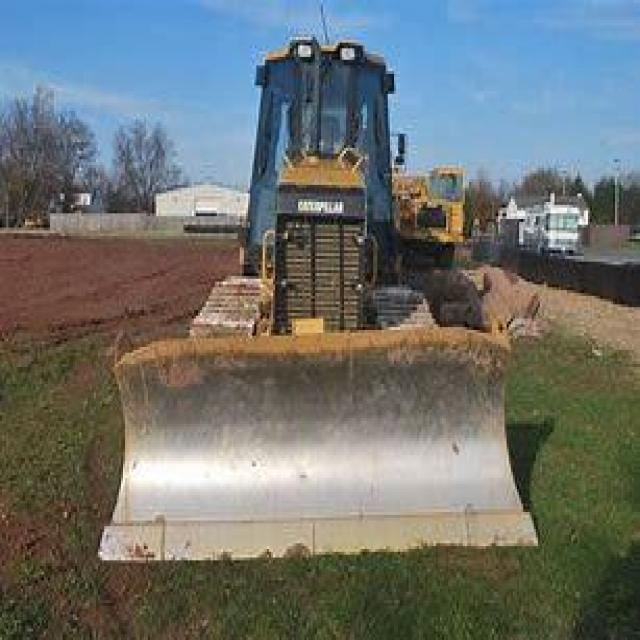Bulldozer: (92, 23, 542, 560)
